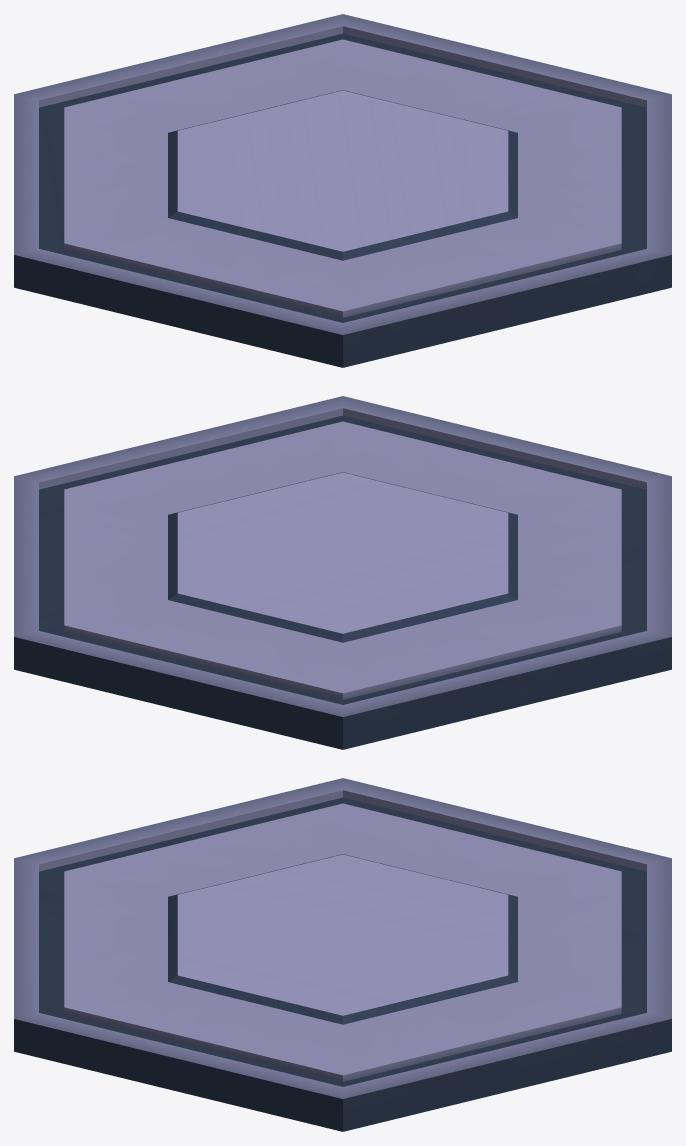
Rendered from StartPlate.fbx.
The picture shows the model from 3 angles, top to bottom: view 1: azimuth 30°, elevation 25°; view 2: azimuth 150°, elevation 25°; view 3: azimuth 270°, elevation 25°; orthographic projection.
Parts seen in each view (by area): view 1: StartingPlate; view 2: StartingPlate; view 3: StartingPlate.
Boxes of the visible parts, bbox=[...] form: StartingPlate: bbox=[14, 14, 671, 367]; StartingPlate: bbox=[14, 396, 671, 749]; StartingPlate: bbox=[14, 778, 671, 1131].
Bounding box in the file's own units: 1105 × 58.2 × 957.
1 material, 1 textured.
